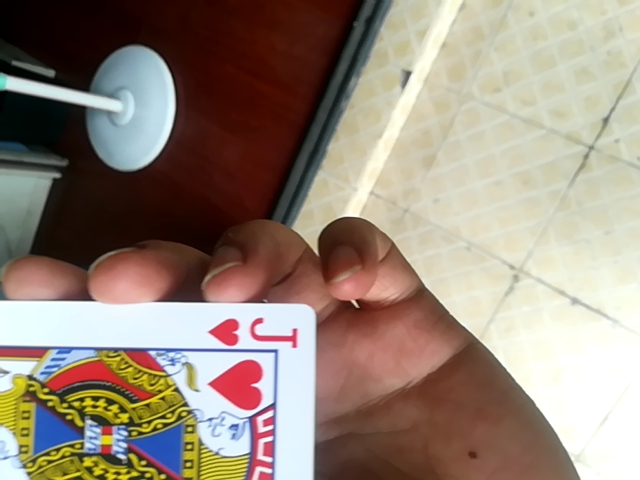hx j: (0, 297, 323, 479)
